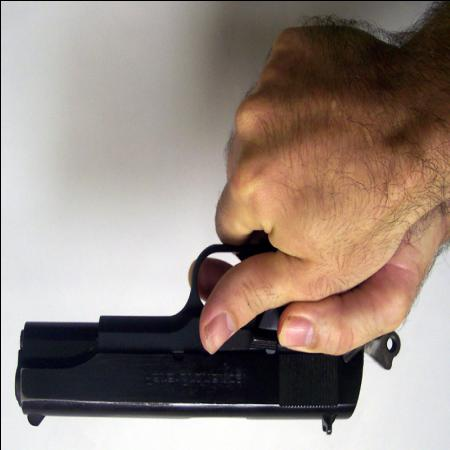Pistol: (13, 224, 417, 436)
